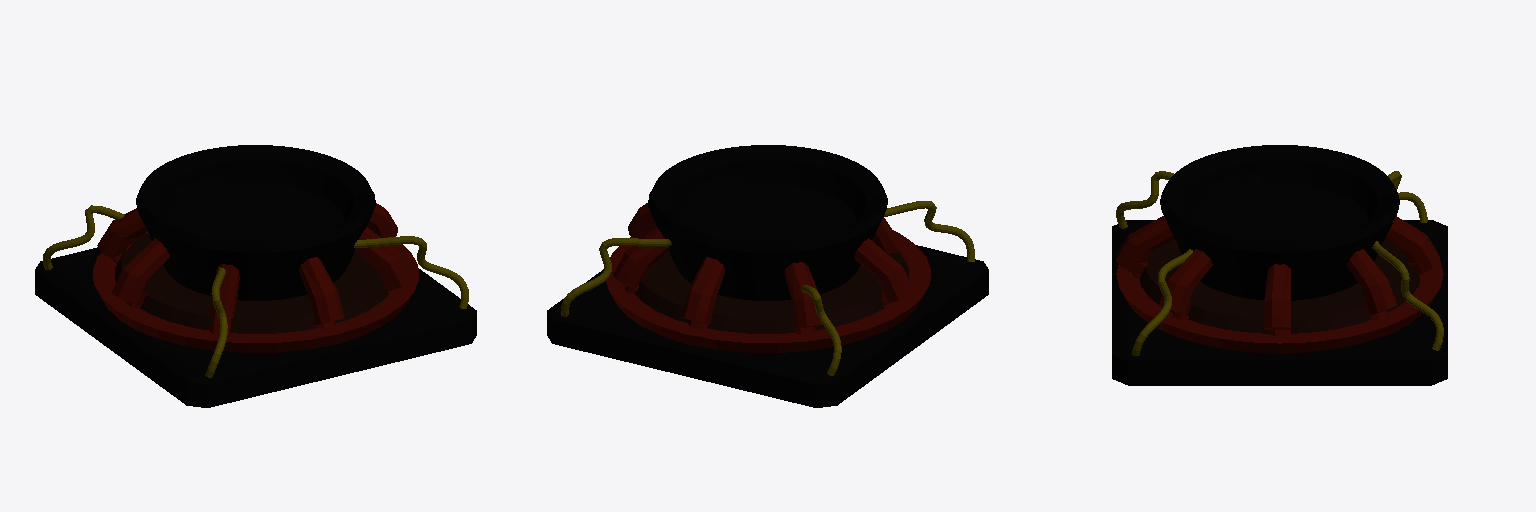
Rendered from mortar.obj.
3 renders of one model, left to right at view 1: azimuth 30°, elevation 25°; view 2: azimuth 150°, elevation 25°; view 3: azimuth 270°, elevation 25°, orthographic.
Visible parts, largest first — view 1: Cylinder.003, Cube, Cylinder.004, Cylinder.005, Cube.004, Cube.002, Cube.006, Cube.005, BézierCurve.002, Cube.008, BézierCurve.003, BézierCurve (+1 smaller); view 2: Cylinder.003, Cube, Cylinder.005, Cylinder.004, Cube.002, Cube.003, Cube.005, Cube.007, BézierCurve.001, BézierCurve, BézierCurve.003, Cube.008 (+1 smaller); view 3: Cylinder.003, Cube, Cylinder.004, Cylinder.005, Cube.007, Cube.001, Cube.004, Cube.006, Cube.003, BézierCurve.001, BézierCurve.002, BézierCurve.
Boxes of the visible parts, x1,y1,x2,y2 form: Cylinder.003: [136, 145, 375, 300]; Cube: [35, 247, 476, 407]; Cylinder.004: [115, 232, 388, 333]; Cylinder.005: [93, 239, 418, 352]; Cube.004: [299, 257, 343, 328]; Cube.002: [112, 238, 169, 307]; Cube.006: [355, 227, 412, 293]; Cube.005: [97, 208, 146, 262]; BézierCurve.002: [354, 236, 468, 308]; Cube.008: [209, 264, 239, 334]; BézierCurve.003: [43, 205, 148, 269]; BézierCurve: [205, 267, 227, 377]; Cylinder.003: [648, 145, 887, 300]; Cube: [547, 245, 988, 407]; Cylinder.005: [606, 230, 930, 352]; Cylinder.004: [635, 251, 908, 333]; Cube.002: [854, 238, 913, 307]; Cube.003: [682, 257, 724, 328]; Cube.005: [784, 262, 822, 334]; Cube.007: [613, 227, 668, 293]; BézierCurve.001: [561, 238, 671, 316]; BézierCurve: [884, 201, 974, 261]; BézierCurve.003: [801, 285, 841, 375]; Cube.008: [872, 217, 910, 262]; Cylinder.003: [1160, 145, 1399, 300]; Cube: [1112, 220, 1447, 385]; Cylinder.004: [1140, 239, 1419, 333]; Cylinder.005: [1116, 261, 1443, 353]; Cube.007: [1347, 249, 1396, 319]; Cube.001: [1264, 264, 1290, 336]; Cube.004: [1116, 216, 1174, 278]; Cube.006: [1158, 249, 1212, 319]; Cube.003: [1385, 216, 1439, 278]; BézierCurve.001: [1372, 241, 1443, 350]; BézierCurve.002: [1132, 249, 1192, 355]; BézierCurve: [1116, 171, 1173, 228].
Size of the model in its own units: 5.77 by 2.37 by 5.77.